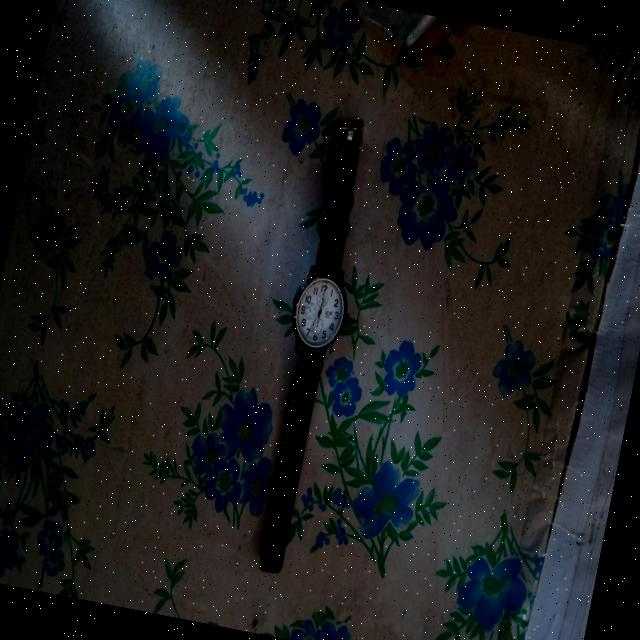Wrist watch: (240, 118, 382, 584)
